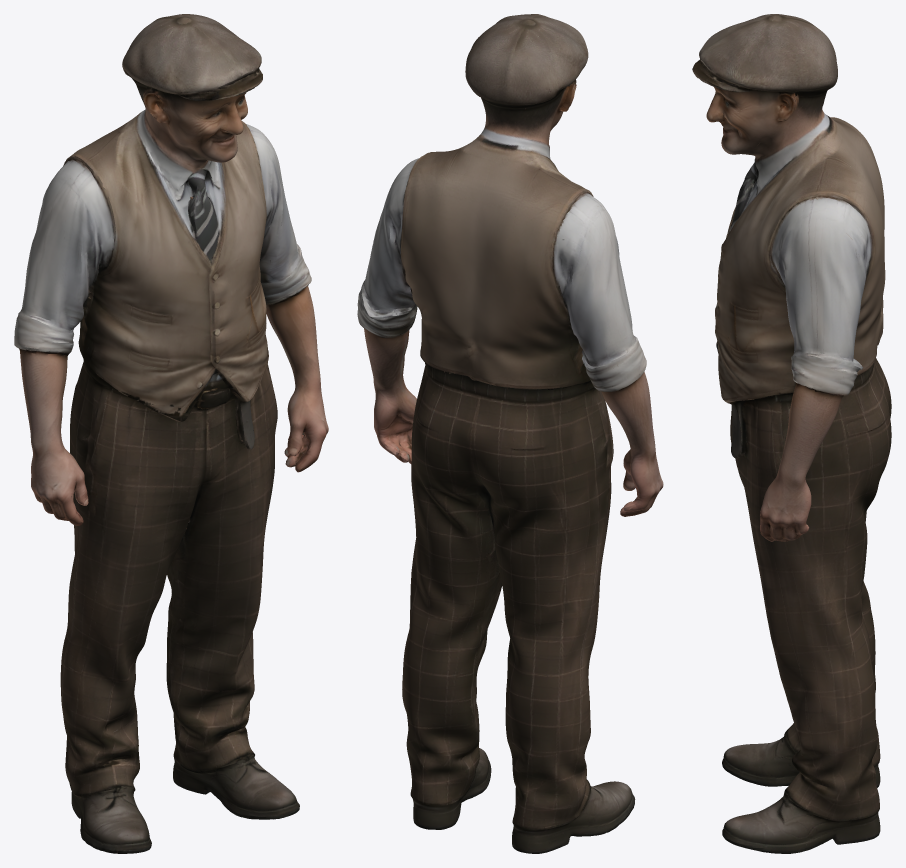
File: Basil.glb
3 views of the same model, side by side, from view 1: azimuth 30°, elevation 25°; view 2: azimuth 150°, elevation 25°; view 3: azimuth 270°, elevation 25° (orthographic). The views are drawn at different scales.
Visible parts, largest first — view 1: output; view 2: output; view 3: output.
Part boxes in pixels (bbox=[...]): output: bbox=[14, 14, 328, 853]; output: bbox=[357, 14, 663, 853]; output: bbox=[692, 14, 891, 853].
Size of the model in its own units: 0.7121 by 1.91 by 0.4349.
Materials: 1 (1 with a texture image).
